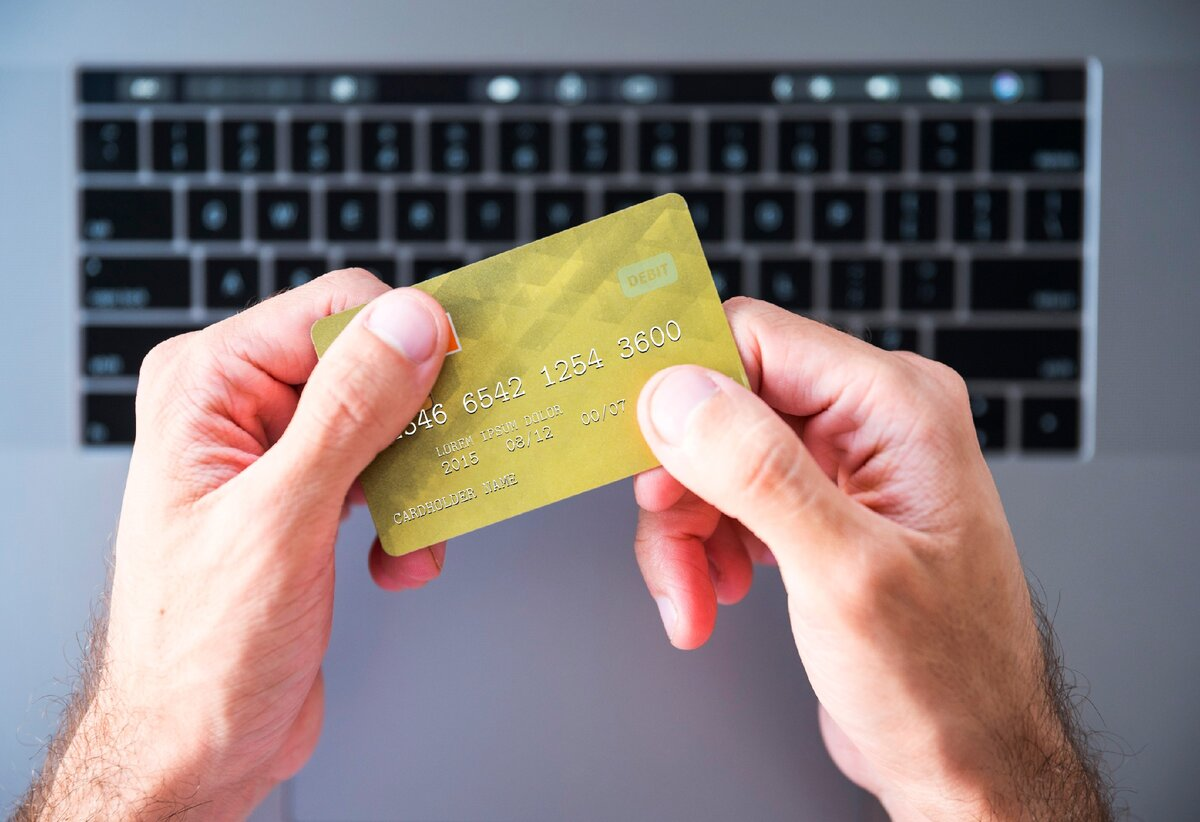card: (310, 192, 755, 558)
